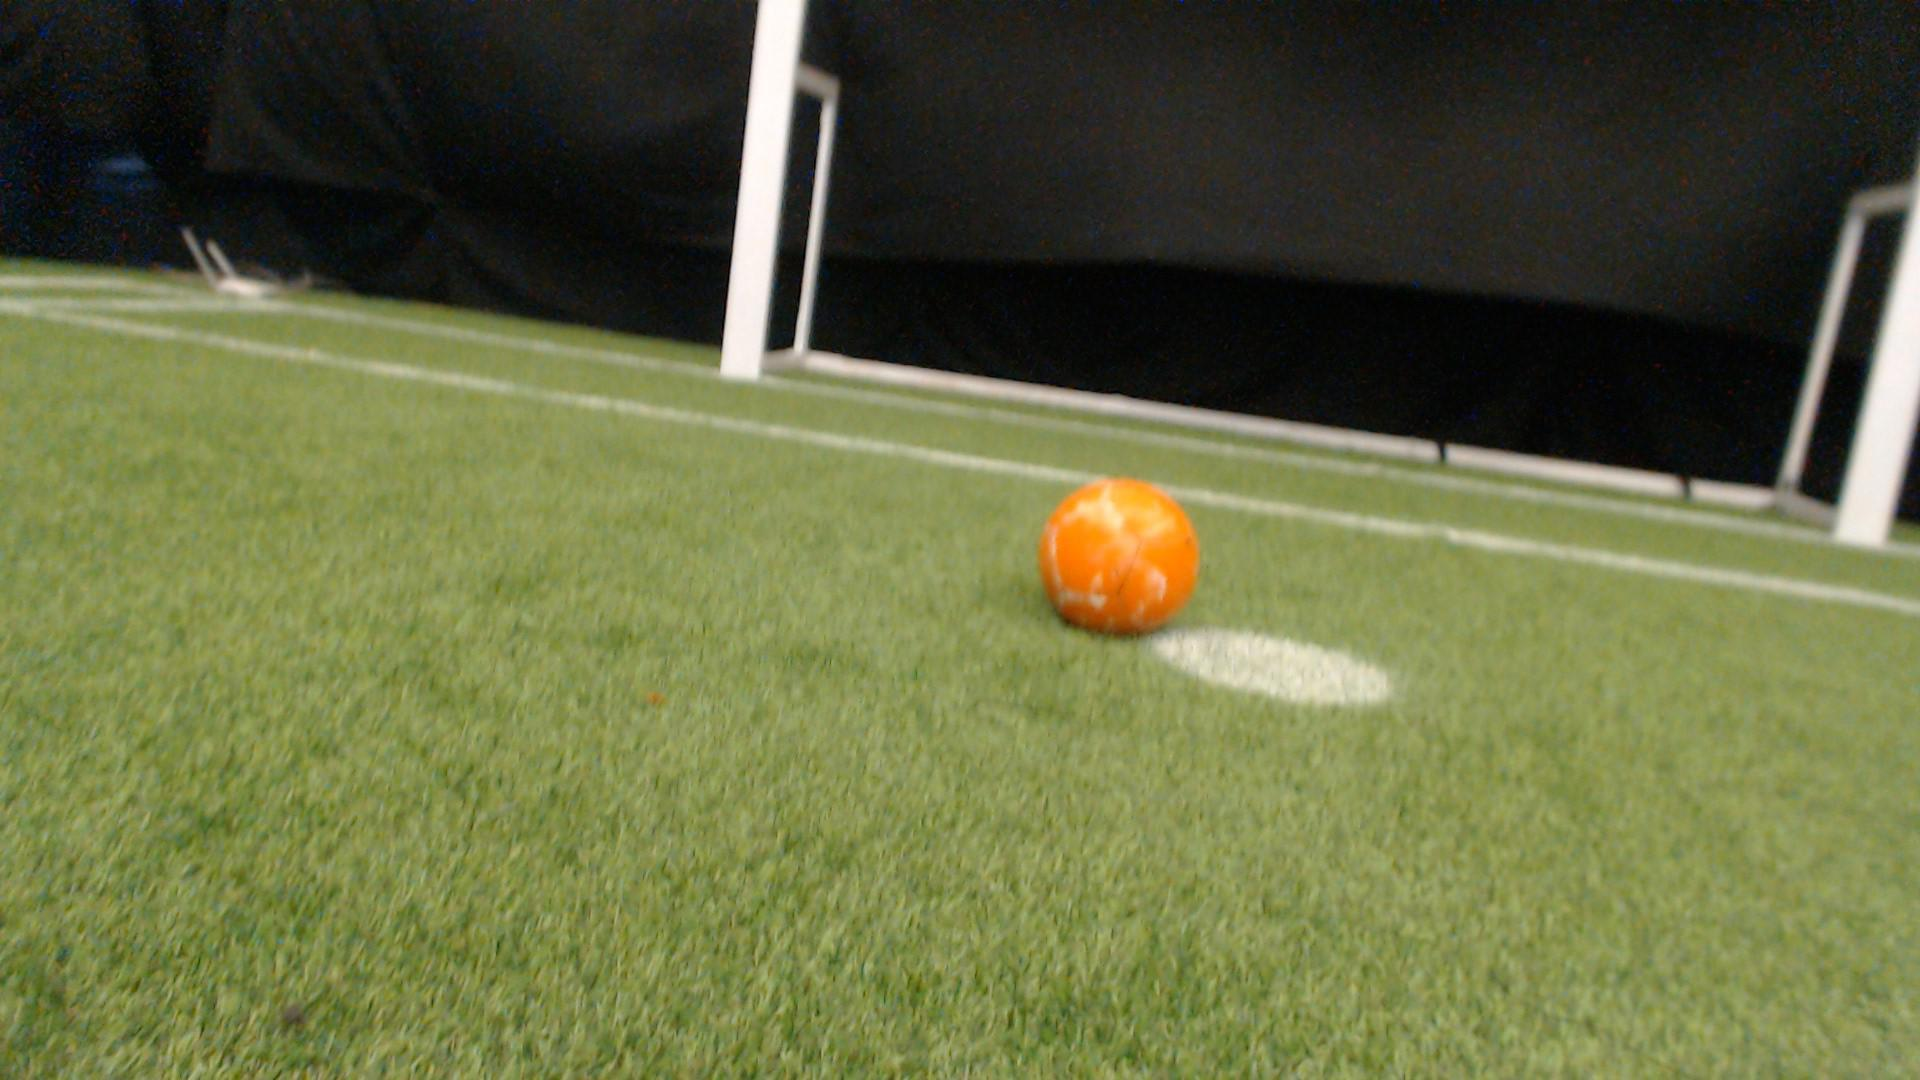bola: (1027, 472, 1221, 637)
